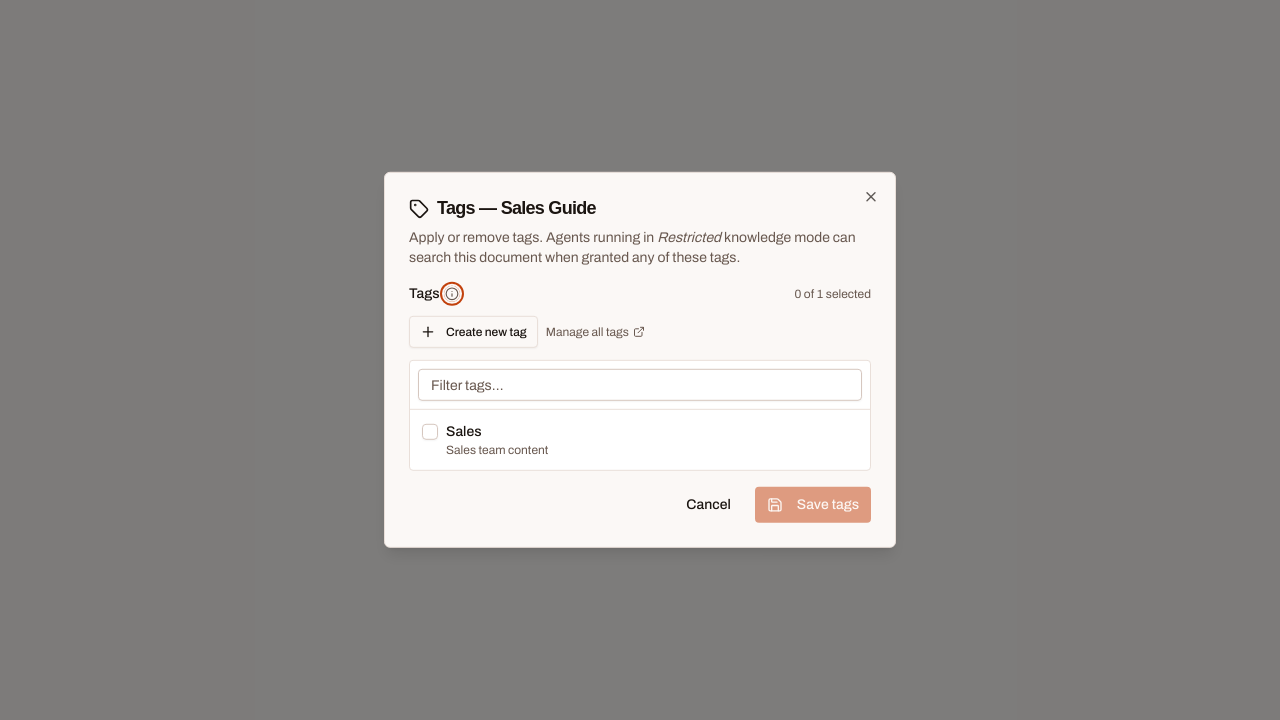
DocumentTagsModal › checkbox interactions › checking a tag makes "Save tags" enabled (dirty)
The width and height of the screenshot is (1280, 720).
Expected: the text "Sales" is shown, [446, 424, 482, 439]
// Click the checkbox label
Click the checkbox named "apply tag sales" at (430, 432), box [422, 424, 438, 440]
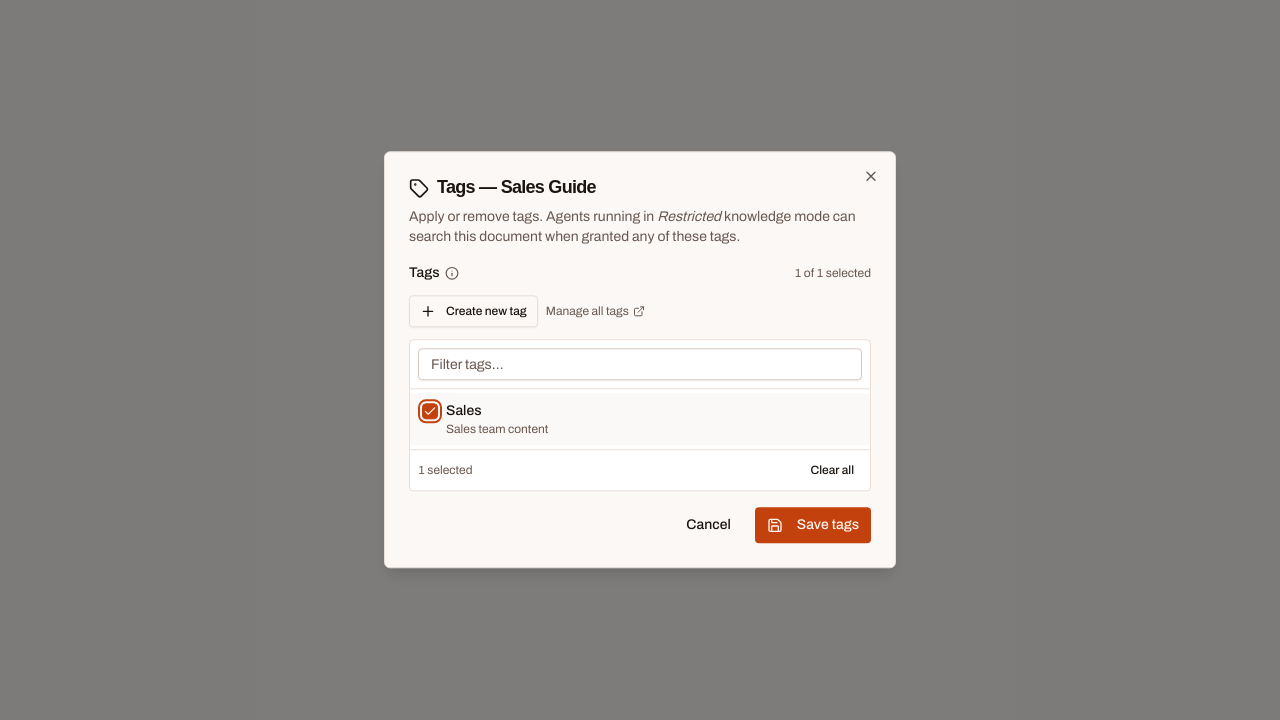
Expected: the button "Save tags" is enabled, [755, 508, 871, 544]
